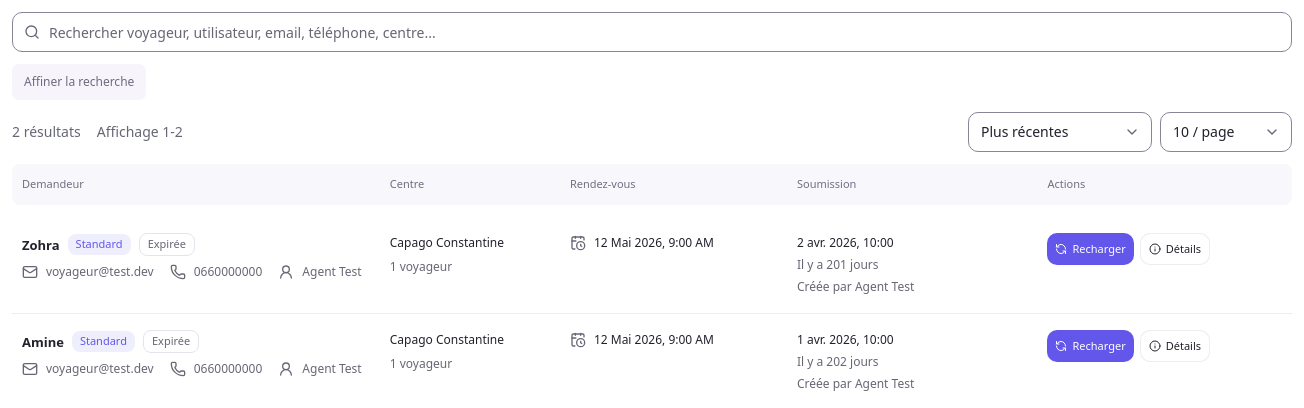
Test: Request sorting › sorts records without changing search results or the underlying records
Expected: the text "Zohra" is shown, [22, 232, 60, 256]
Select "Plus anciennes" in the dropdown named "Trier les demandes" at (1060, 132), box [968, 112, 1152, 152]
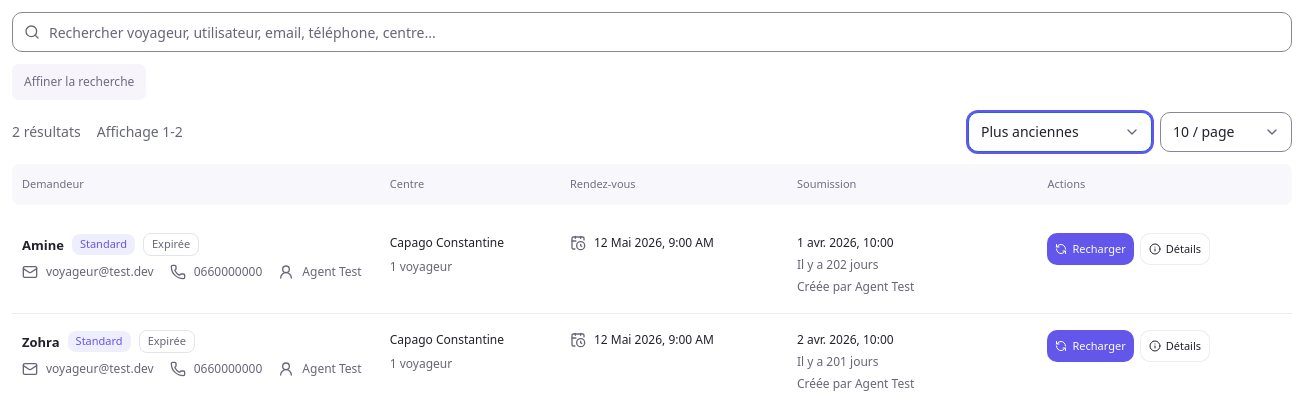
Expected: the text "Amine" is shown, [22, 232, 64, 256]
Type "Zohra" into the field named "Recherche dans les demandes" at (652, 32), box [12, 12, 1292, 52]
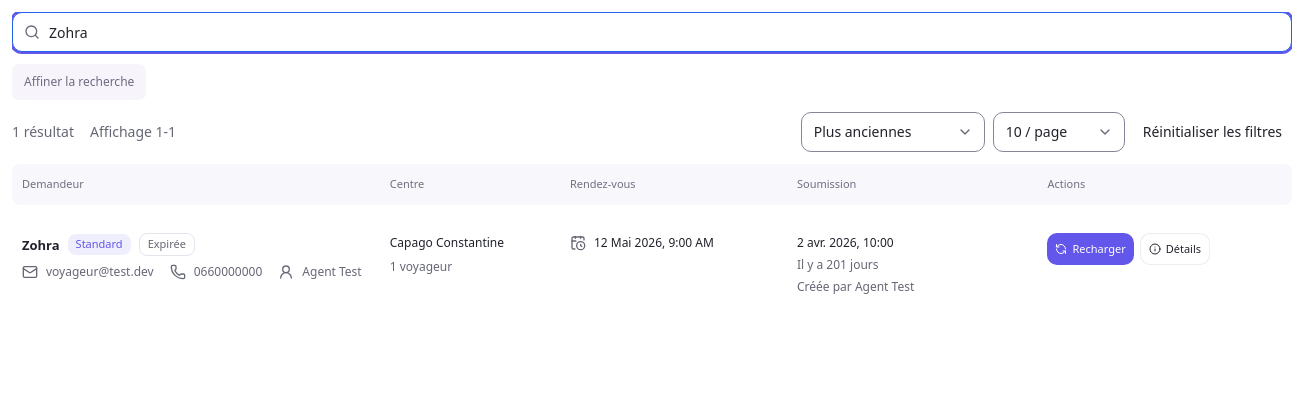
Expected: the text "Zohra" is shown, [22, 232, 60, 256]
Result: the text "Amine" is gone
